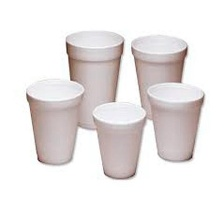paper_cup: (62, 24, 127, 133), (21, 73, 88, 168), (127, 29, 191, 123), (142, 78, 208, 165), (89, 97, 149, 182)
